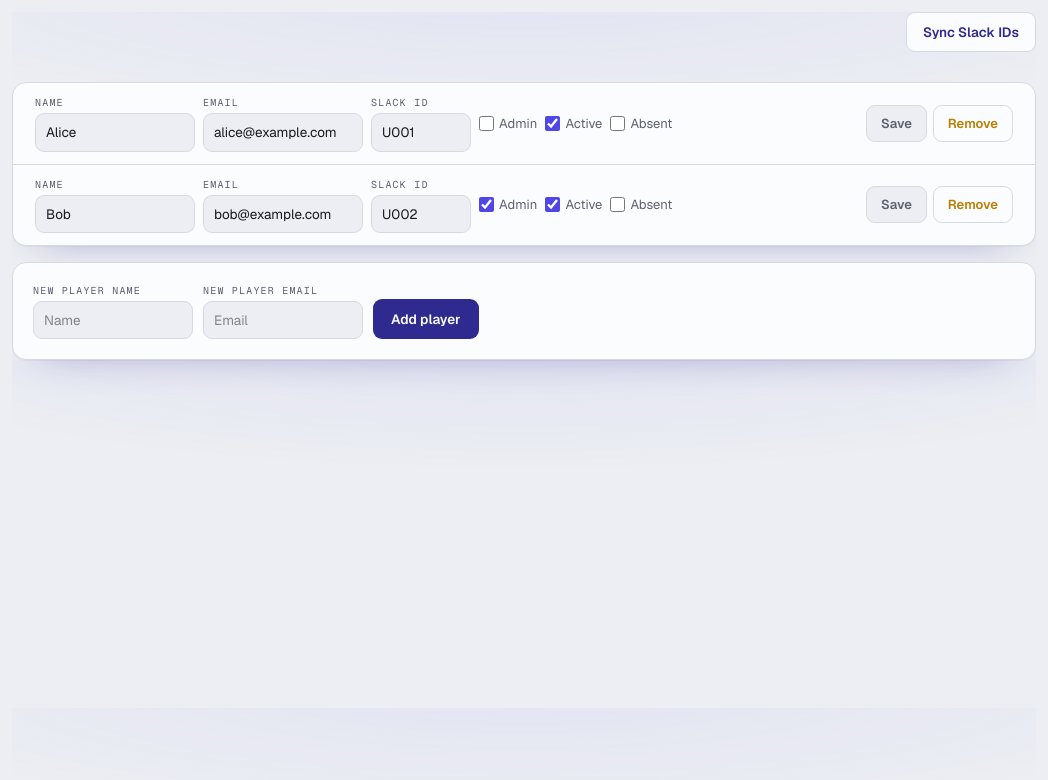
Test: RosterManager: Absent toggle optimistic rollback regression › reverts a previously-unchecked Absent box back to unchecked when the absence POST fails (regression)
Click the 1st checkbox labelled "Absent". click: coordinates (618, 123)
box: [610, 116, 625, 131]
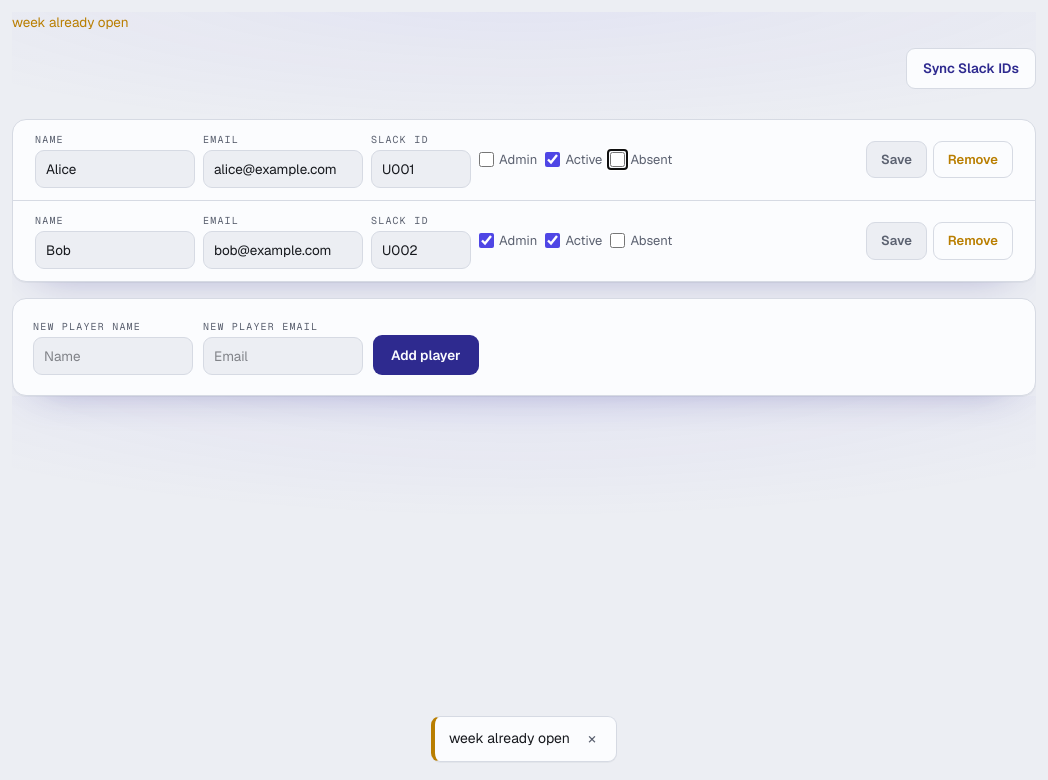
Expected: the 1st checkbox labelled "Absent" is not checked, [610, 152, 625, 167]
Expected: the message "week already open" is shown, [12, 13, 129, 31]
